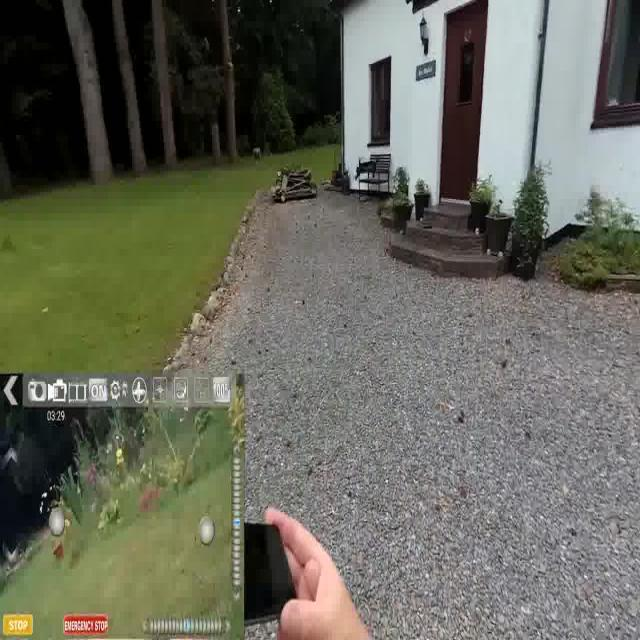drones: (349, 147, 386, 190)
